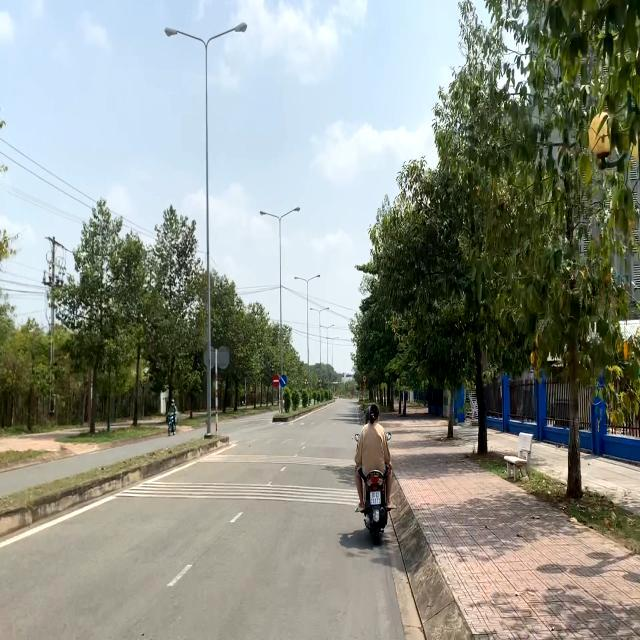Cam di nguoc chieu: (272, 374, 280, 388)
Vong chuong ngai vat sang phai: (280, 374, 287, 388)
